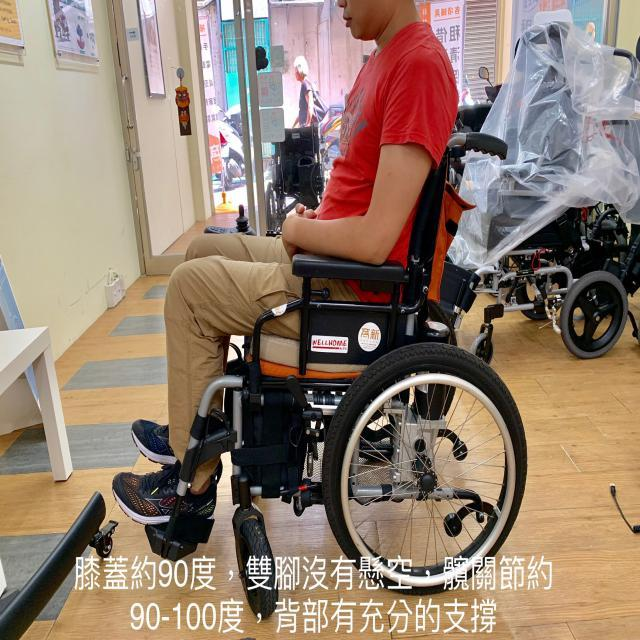peoplewithwheelchair: (114, 0, 530, 615)
